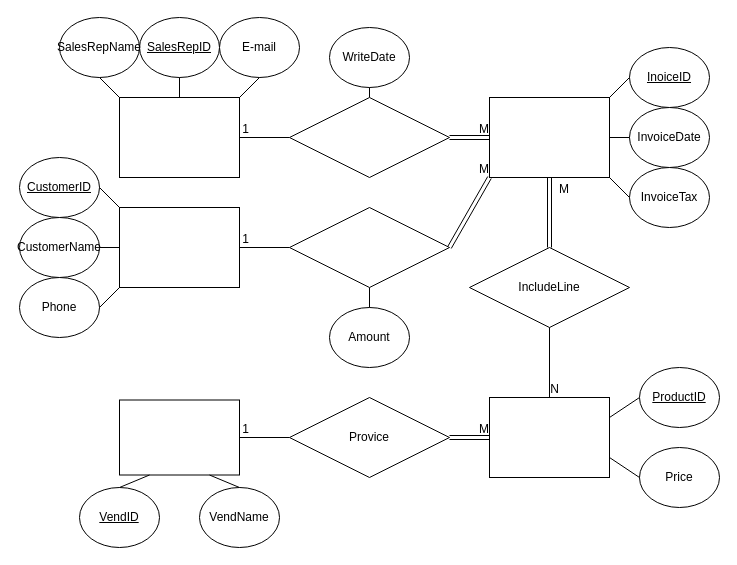
The diagram is 737 pixels wide and 565 high, and some of its shapes have lost their labels. The shapes that lost their labels are listed below. From the top down, each one's centre as x and y in pixels, then its label:
At [179,137]: "SALESREP".
At [369,137]: "Write".
At [549,137]: "INVOICE".
At [179,247]: "CUSTOMER".
At [369,247]: "Buy".
At [179,437]: "VENDOR".
At [549,437]: "PRODUCT".
